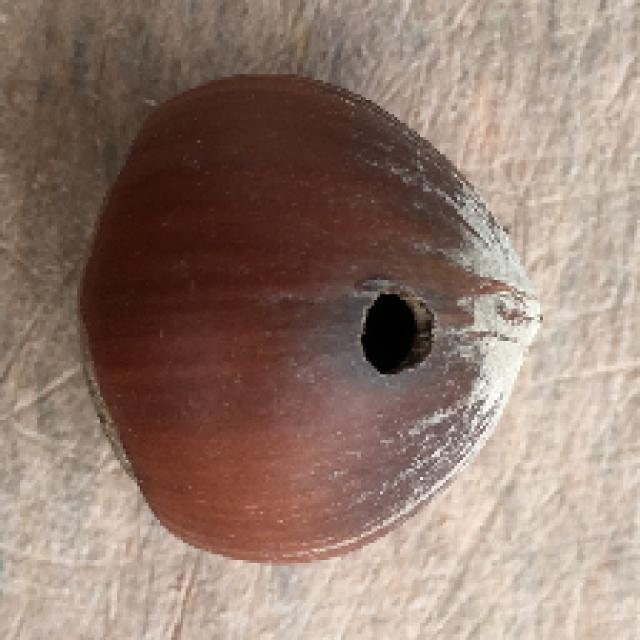damagedHazelnut: (79, 69, 546, 573)
